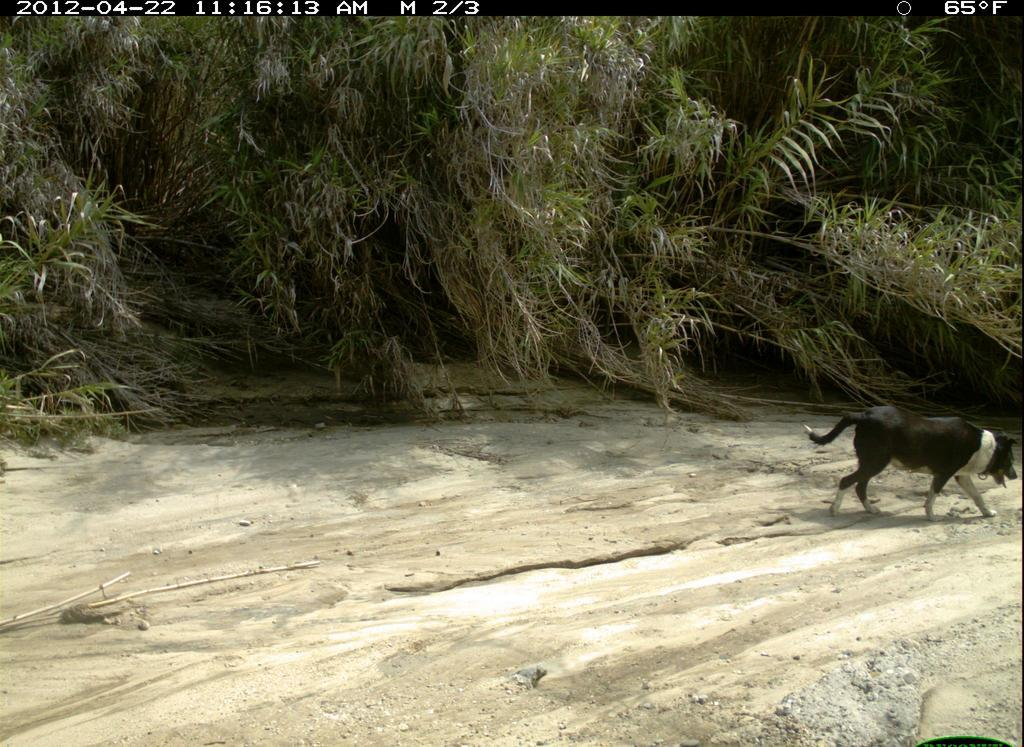dog: (789, 396, 1023, 541)
